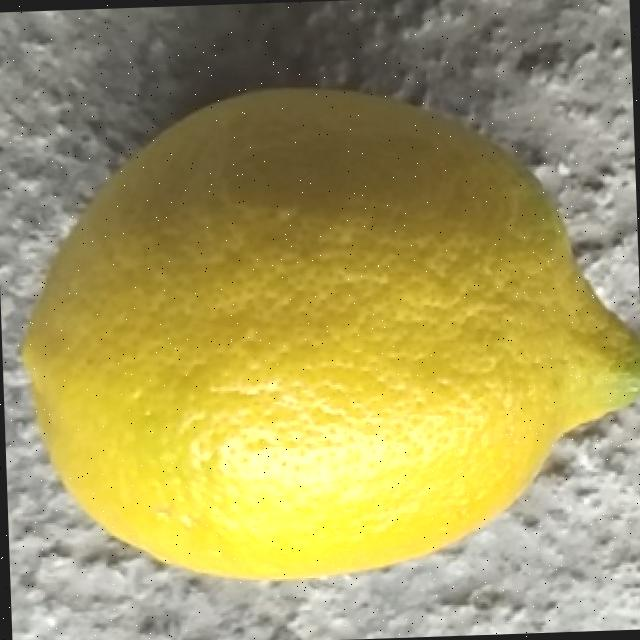Ripe: (2, 73, 640, 600)
